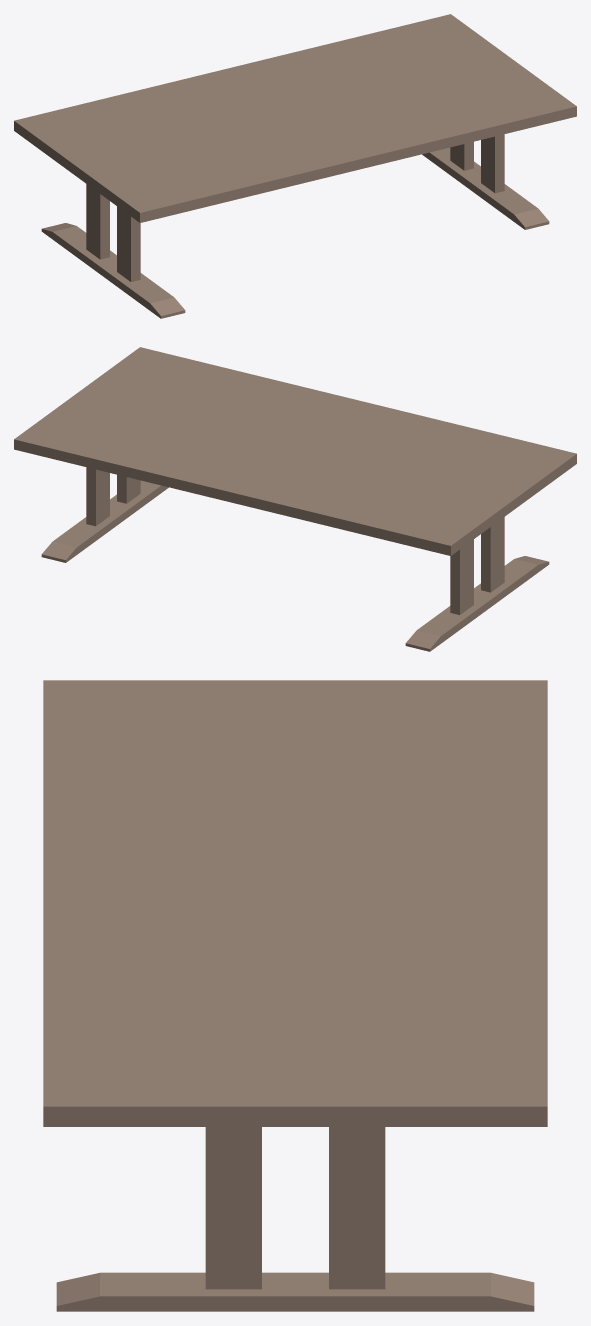
3 views of the same model, one above another, from view 1: azimuth 30°, elevation 25°; view 2: azimuth 150°, elevation 25°; view 3: azimuth 270°, elevation 25° (orthographic). The views are drawn at different scales.
Parts seen in each view (by area): view 1: 421_座卓; view 2: 421_座卓; view 3: 421_座卓.
Boxes of the visible parts, left/top/right/bottom form: 421_座卓: left=14, top=14, right=576, bottom=318; 421_座卓: left=14, top=347, right=576, bottom=651; 421_座卓: left=43, top=680, right=547, bottom=1311.
Size of the model in its own units: 1.8 by 0.45 by 0.9.
